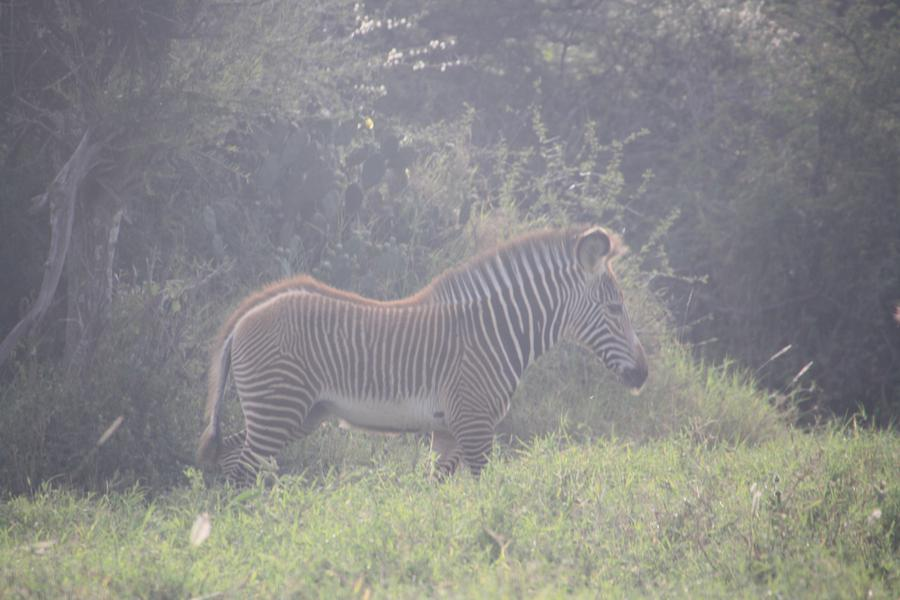zebra_grevys: (206, 251, 511, 425)
